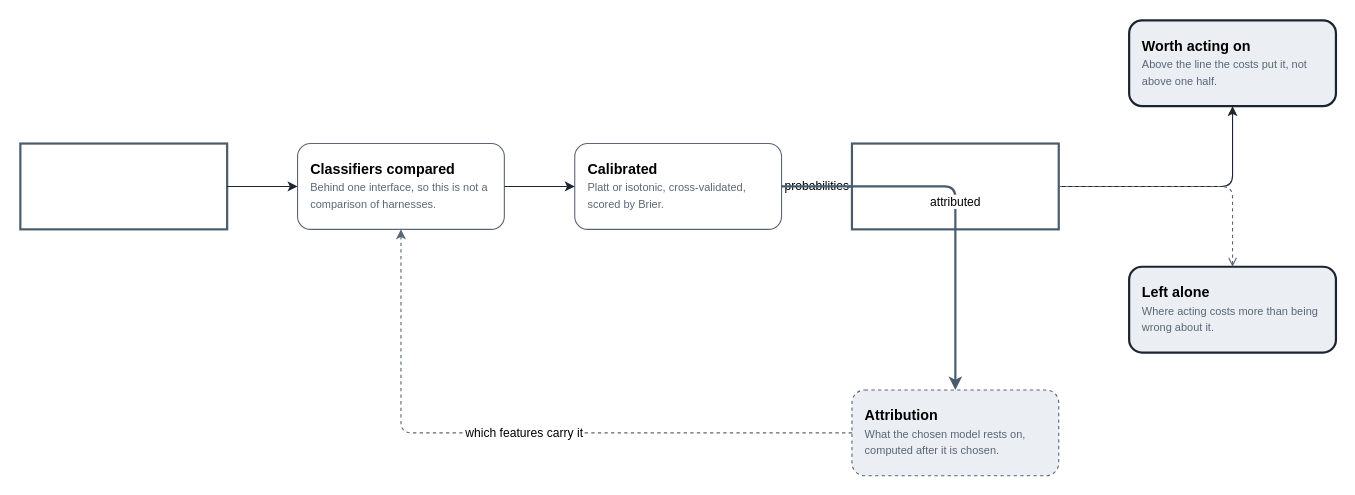
Image size: 1355x495. Some labels were removed from this diagram. Each missing label, with the box of its shape:
Split first Encoders and scaling fitted on the training side only.: (19, 142, 228, 230)
Threshold searched Against the cost criterion. The two costs are wildly unequal.: (850, 142, 1059, 230)
